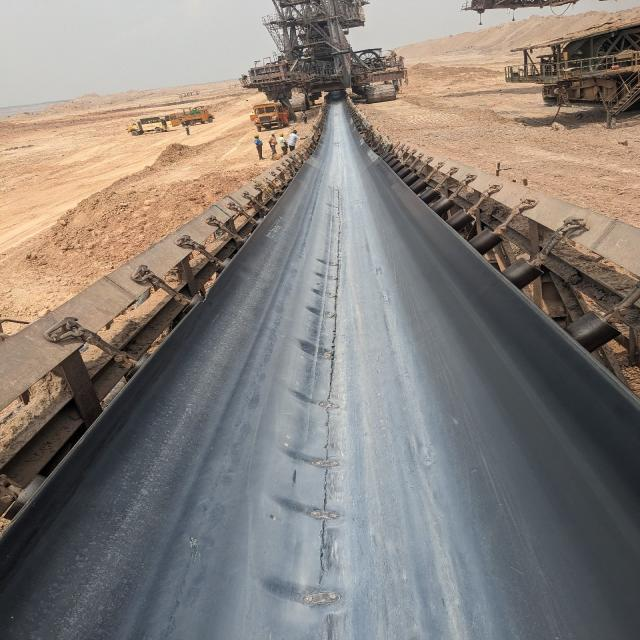Tear: (311, 190, 356, 593)
